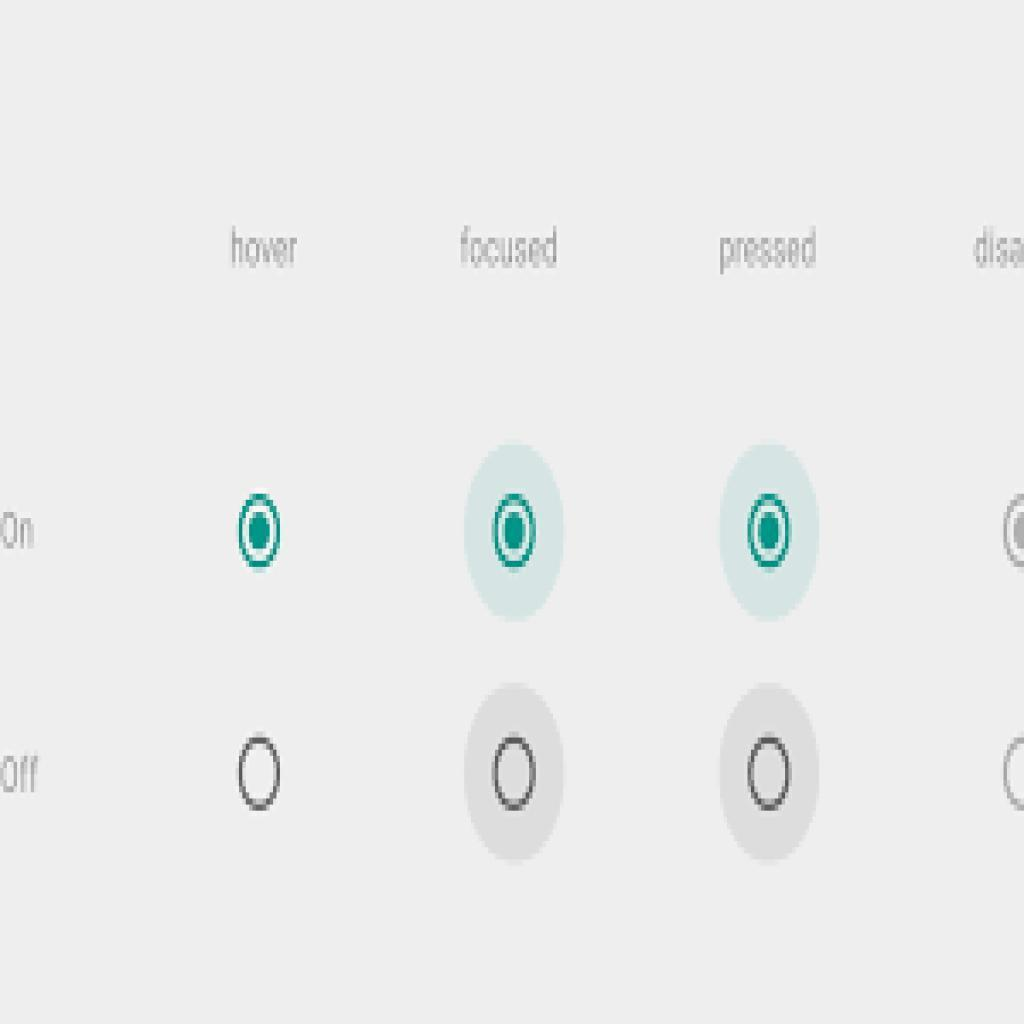radio: (715, 684, 832, 876), (462, 674, 577, 869), (716, 440, 826, 636), (462, 434, 568, 626), (230, 470, 293, 583), (233, 721, 290, 829)
